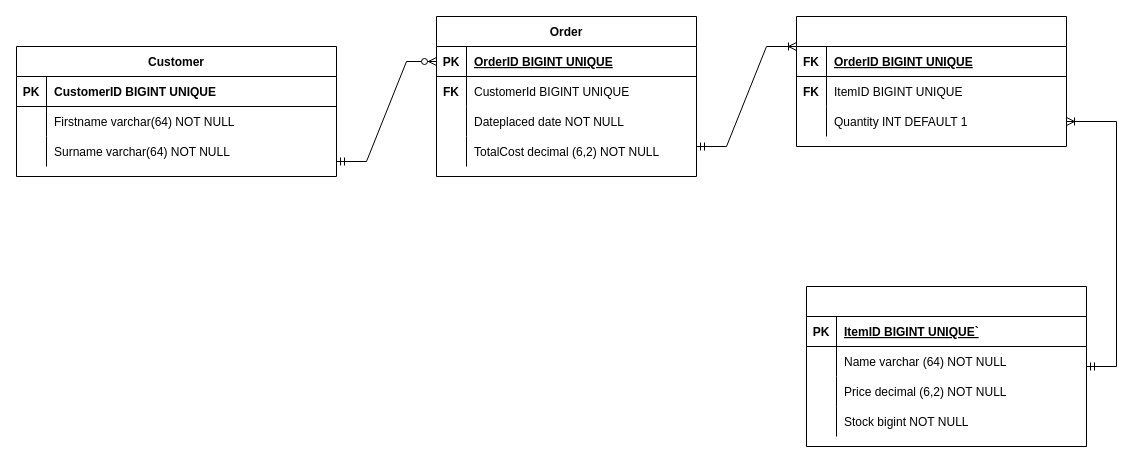
This 1133x463 diagram has some shape labels left out. The shapes that lost their labels are listed below. From the top down, each one's box as (x1, y1, x2, y2) in pixels, then its label:
(796, 16, 1066, 146): Order_items
(806, 286, 1086, 446): Items
